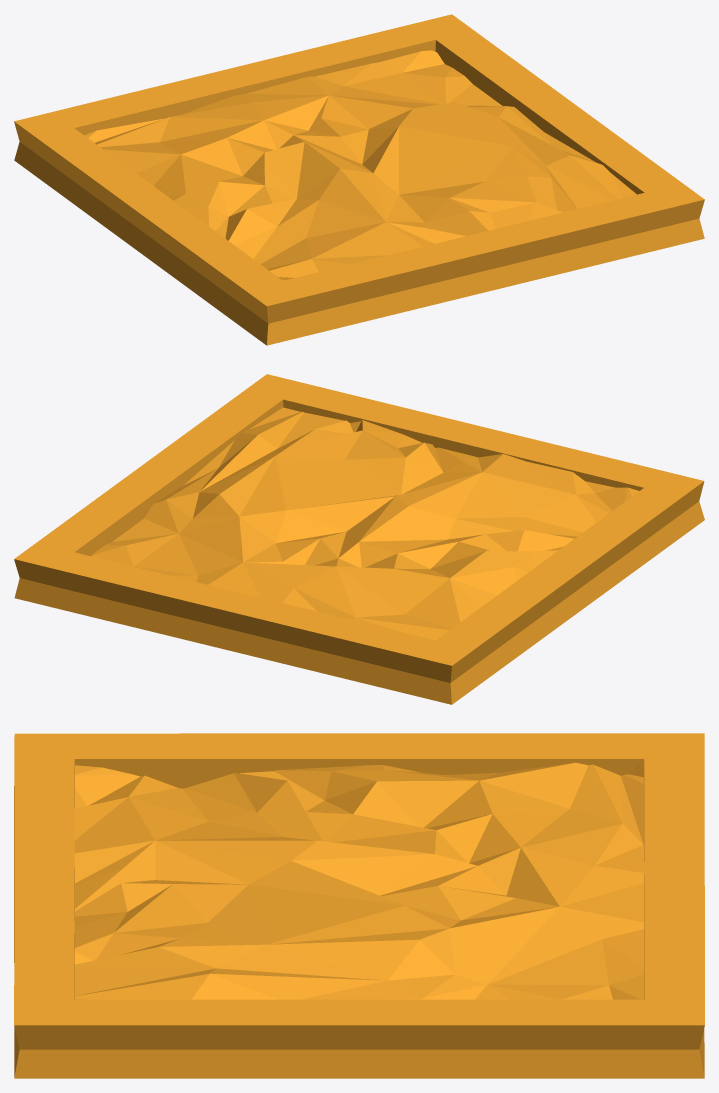
File: SM_Tree_Pot_City_D_1m.fbx
3 views of the same model, one above another, from view 1: azimuth 30°, elevation 25°; view 2: azimuth 150°, elevation 25°; view 3: azimuth 270°, elevation 25° (orthographic). The views are drawn at different scales.
Parts seen in each view (by area): view 1: SM_Tree_Pot_City_D_1m; view 2: SM_Tree_Pot_City_D_1m; view 3: SM_Tree_Pot_City_D_1m.
Boxes of the visible parts, bbox=[...] form: SM_Tree_Pot_City_D_1m: bbox=[14, 14, 704, 345]; SM_Tree_Pot_City_D_1m: bbox=[14, 374, 704, 704]; SM_Tree_Pot_City_D_1m: bbox=[14, 733, 704, 1078].
Bounding box in the file's own units: 1.13 × 0.129 × 1.13.
